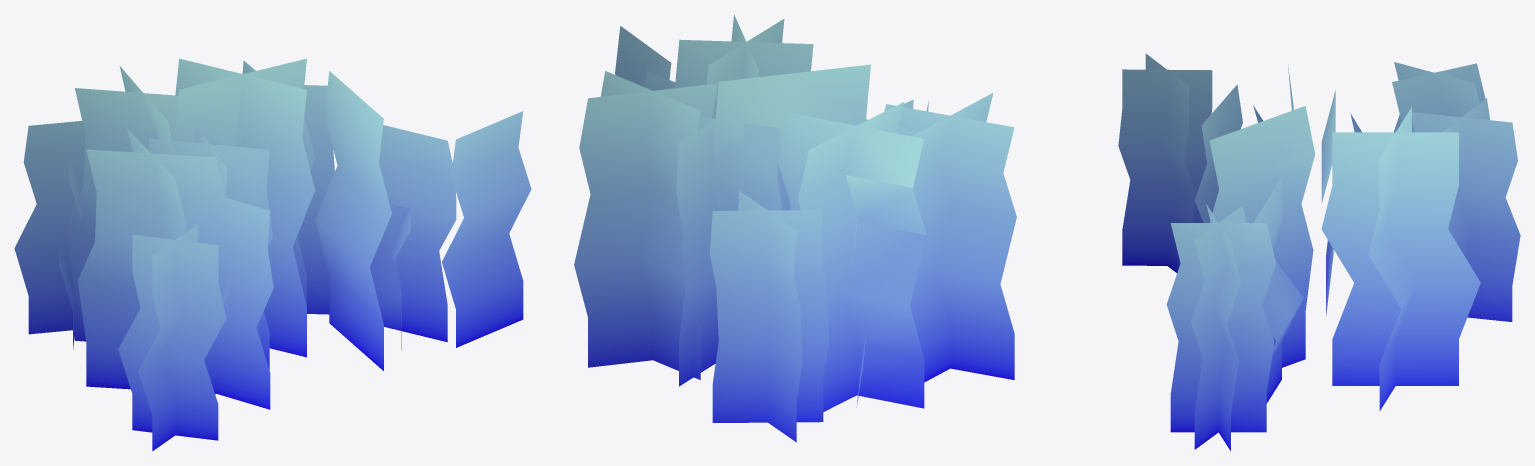
File: SM_Env_Seaweed_03.glb
The picture shows the model from 3 angles, left to right: view 1: azimuth 30°, elevation 25°; view 2: azimuth 150°, elevation 25°; view 3: azimuth 270°, elevation 25°; orthographic projection. The views are drawn at different scales.
Visible parts, largest first — view 1: SM_Env_Seaweed_03_LOD0; view 2: SM_Env_Seaweed_03_LOD0; view 3: SM_Env_Seaweed_03_LOD0.
Part boxes in pixels (x1,y1,x2,y2): SM_Env_Seaweed_03_LOD0: [14, 58, 531, 451]; SM_Env_Seaweed_03_LOD0: [574, 14, 1016, 442]; SM_Env_Seaweed_03_LOD0: [1118, 53, 1520, 450].
Size of what is drawn, in the model's own units: 3.7 by 2.2 by 2.99.
